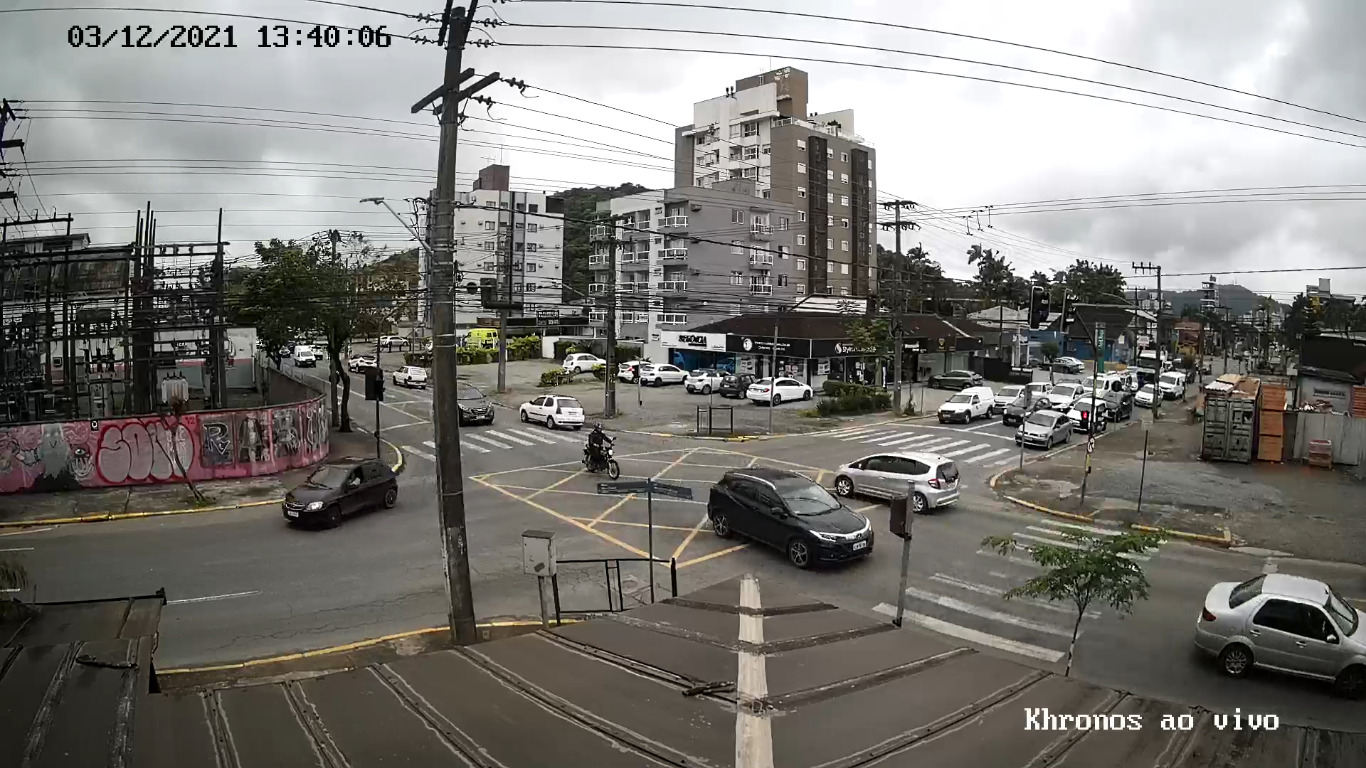car: (1190, 570, 1366, 701), (706, 465, 874, 574), (833, 446, 962, 518), (282, 456, 401, 531), (1014, 407, 1074, 453), (518, 391, 586, 430), (936, 385, 997, 428)
motorcycle: (582, 419, 621, 477)
